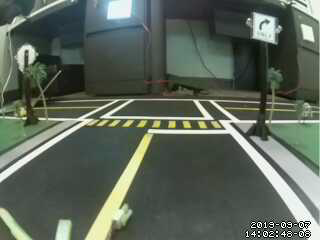Right_only_sign: (247, 11, 277, 46)
